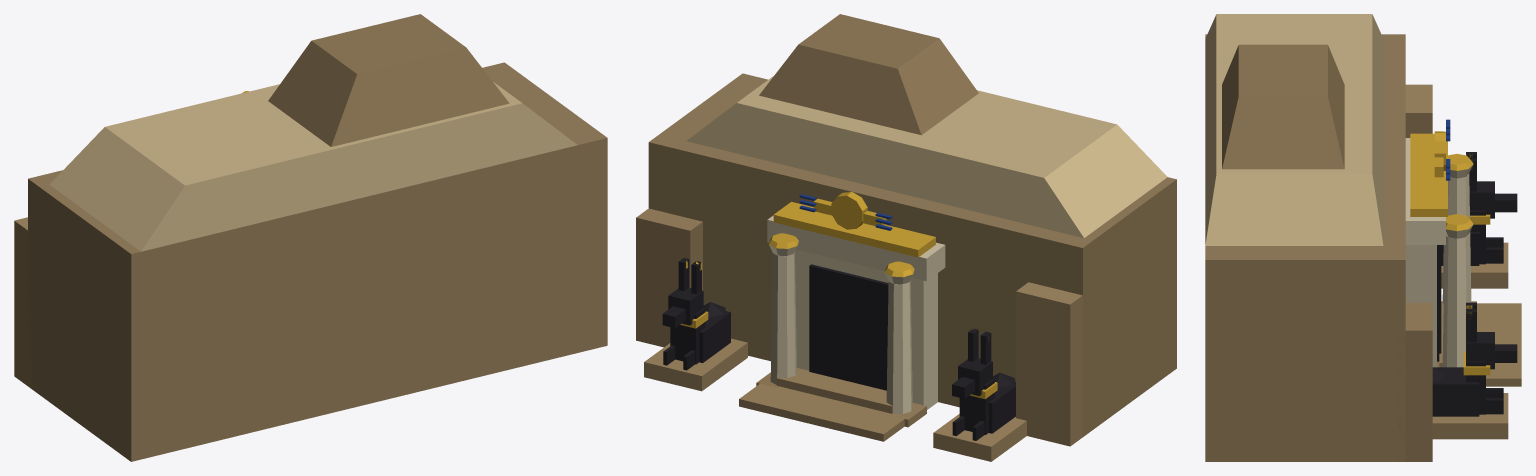
The model's file is Decor_PharaohPyramid_Tomb.fbx.
3 renders of one model, left to right at view 1: azimuth 30°, elevation 25°; view 2: azimuth 150°, elevation 25°; view 3: azimuth 270°, elevation 25°, orthographic. The views are drawn at different scales.
Parts seen in each view (by area): view 1: Tomb_Body; view 2: Tomb_Body; view 3: Tomb_Body.
Part boxes in pixels (x1,y1,x2,y2): Tomb_Body: (14,14,607,461); Tomb_Body: (636,14,1176,461); Tomb_Body: (1205,14,1521,461).
Size of the model in its own units: 24 by 15.2 by 14.2.
